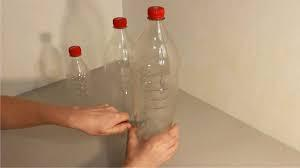Plastic bottle: (128, 5, 178, 143), (103, 17, 136, 119), (59, 40, 93, 119)
